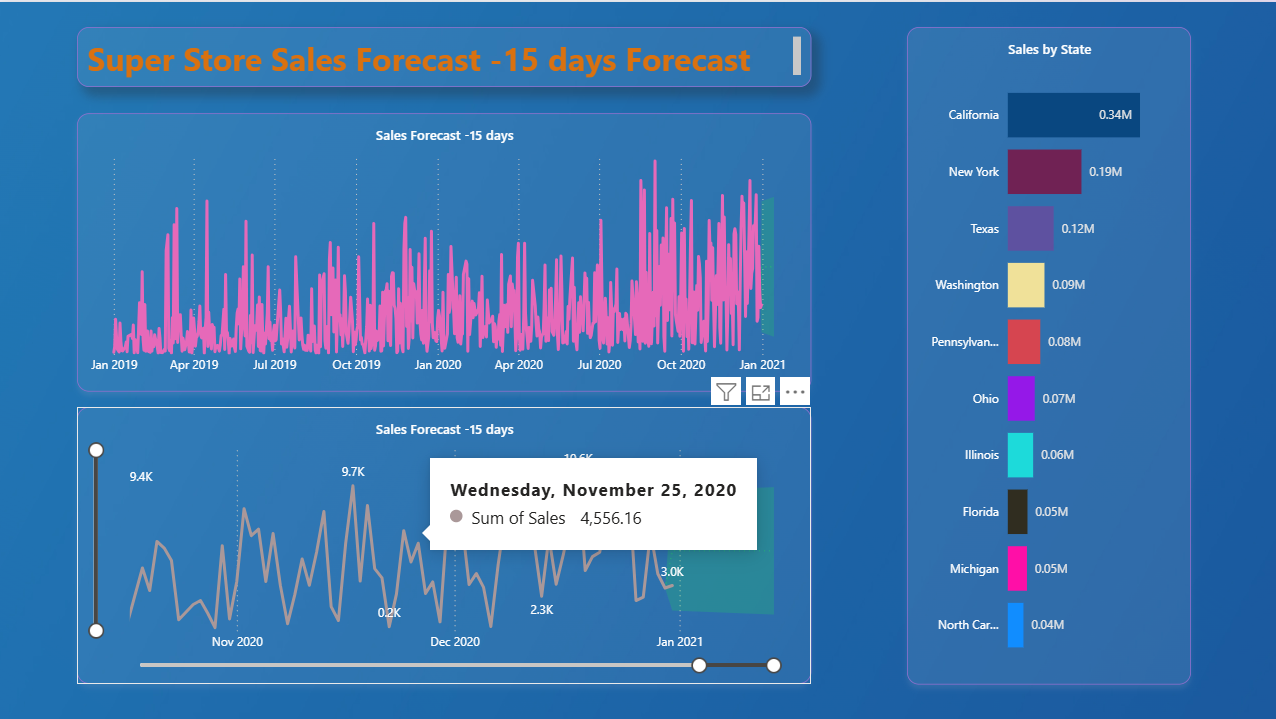

What the dashboard file says about the page in this screenshot:
{"tool":"powerbi","page":{"name":"Page 2","canvas":[1280,720],"ordinal":1},"visuals":[{"type":"lineChart","title":"Sales Forecast -15 days","fields":{"Y":["Sum(SuperStore_Sales_Dataset.Sales)"],"Category":["SuperStore_Sales_Dataset.Order Date"]},"box":[79.6,111.1,734.1,278.6],"z":0},{"type":"lineChart","title":"Sales Forecast -15 days","fields":{"Y":["Sum(SuperStore_Sales_Dataset.Sales)"],"Category":["SuperStore_Sales_Dataset.Order Date"]},"box":[79.6,404.8,734.1,277.2],"z":1000},{"type":"clusteredBarChart","title":"Sales by State","fields":{"Y":["Sum(SuperStore_Sales_Dataset.Sales)"],"Category":["SuperStore_Sales_Dataset.State"]},"box":[909.8,24.7,284,657.3],"z":2000},{"type":"textbox","box":[79.6,24.7,734.1,60.4],"z":3000}]}

Visuals, with their boxes in screenshot pixels (x1, y1, x2, y2), scaled from the page's 1280x720 canvas onto the 1276x719 screenshot:
"Sales Forecast -15 days" lineChart: <bbox>79, 111, 811, 389</bbox>
"Sales Forecast -15 days" lineChart: <bbox>79, 404, 811, 681</bbox>
"Sales by State" clusteredBarChart: <bbox>907, 25, 1190, 681</bbox>
textbox: <bbox>79, 25, 811, 85</bbox>
